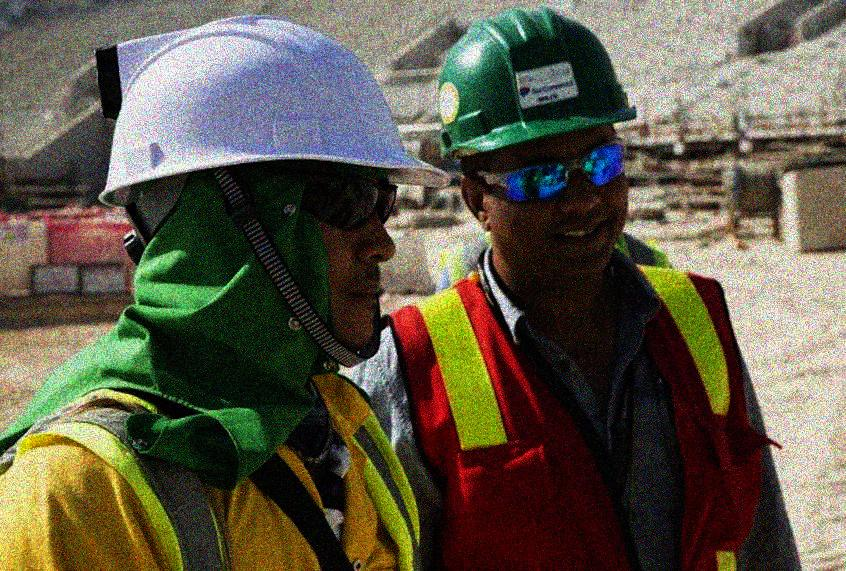helmet: (97, 17, 445, 371), (431, 4, 636, 279)
